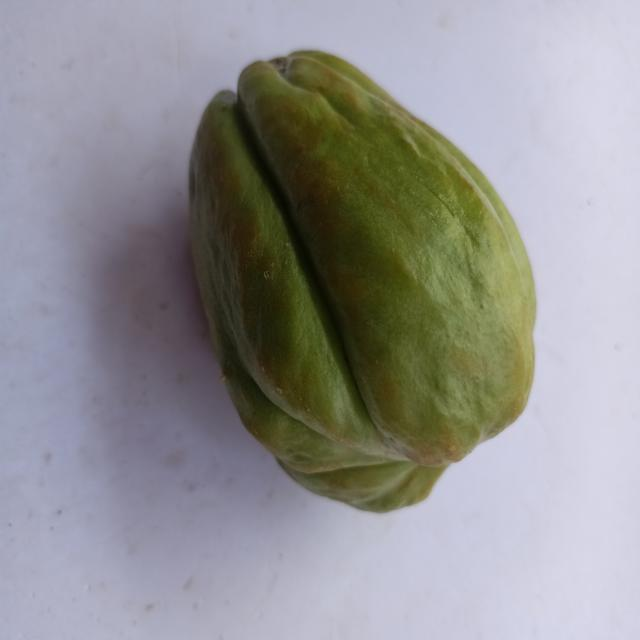Chayote: (160, 31, 550, 528)
